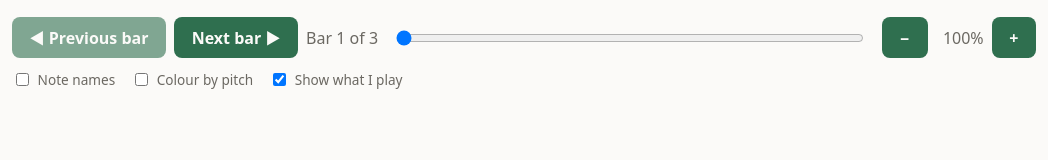
Test case: ScoreView › stops at the ends of the piece
The width and height of the screenshot is (1048, 160).
Expected: the button "◀ Previous bar" is disabled, [12,17,166,58]
What coordinates should you click on to do the following:
click the button "Next bar ▶"
I would click on:
 (236, 38)
Its box is [174,17,298,58].
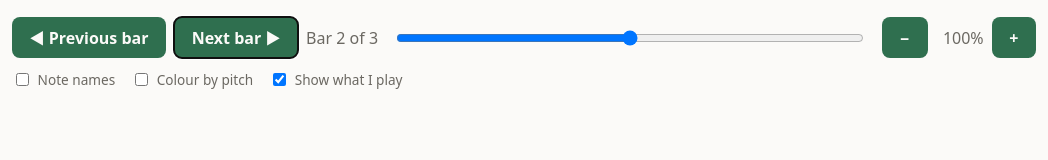
What coordinates should you click on to do the following:
click the button "Next bar ▶"
I would click on:
 (236, 38)
Its box is [174,17,298,58].
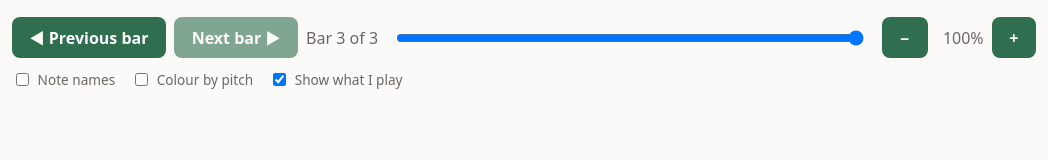
Result: the text "Bar 3 of 3" is shown at [306,27,378,49]
Result: the button "Next bar ▶" is disabled at [174,17,298,58]
